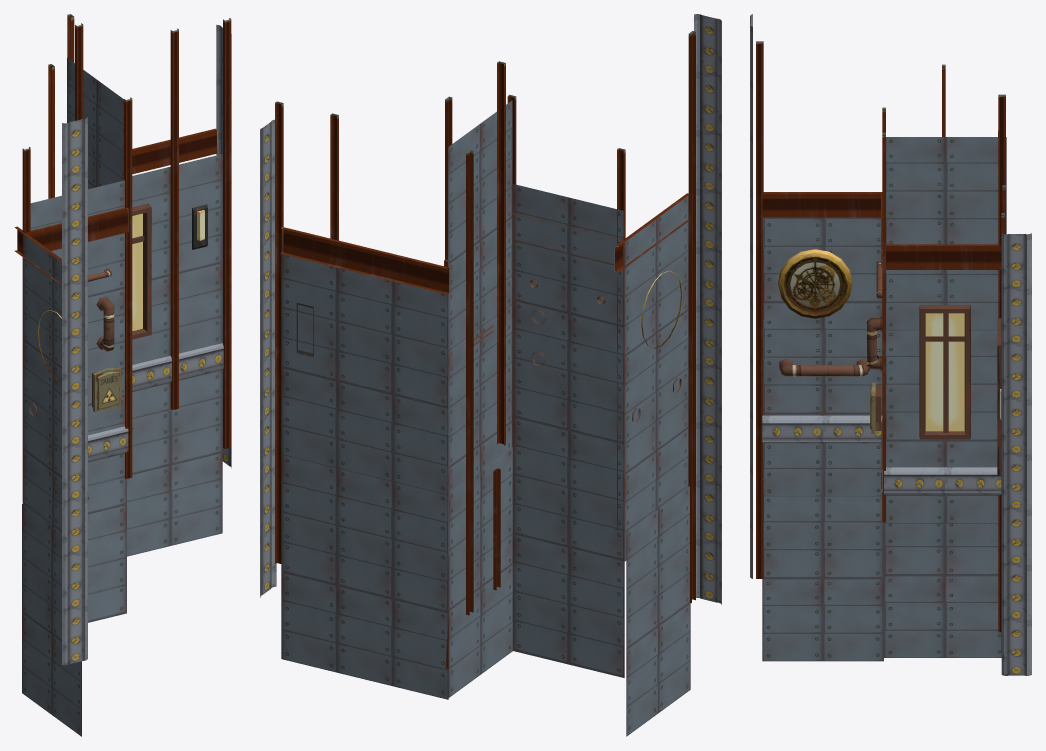
The model's file is Wall14.007.fbx.
3 views of the same model, side by side, from view 1: azimuth 30°, elevation 25°; view 2: azimuth 150°, elevation 25°; view 3: azimuth 270°, elevation 25° (orthographic). The views are drawn at different scales.
Visible parts, largest first — view 1: Wall14.007; view 2: Wall14.007; view 3: Wall14.007.
Boxes of the visible parts, bbox=[...] form: Wall14.007: bbox=[14, 14, 231, 736]; Wall14.007: bbox=[260, 14, 721, 736]; Wall14.007: bbox=[750, 14, 1031, 675].
Size of the model in its own units: 2267 by 4621 by 1851.
